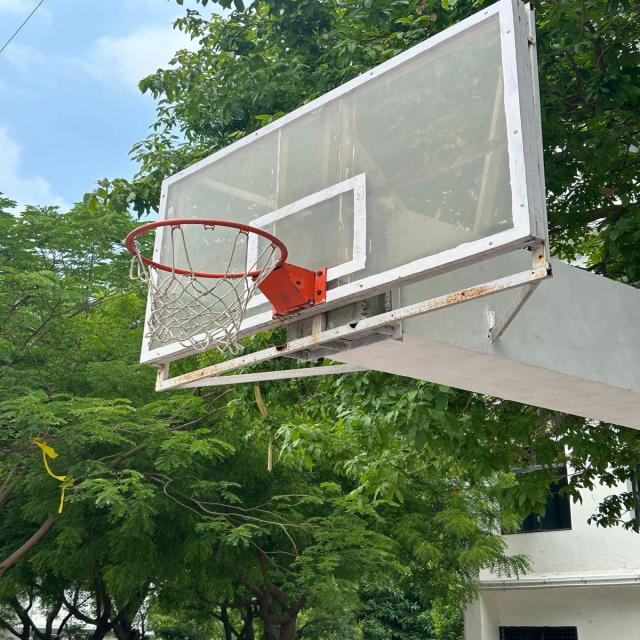hoop: (91, 213, 354, 373)
